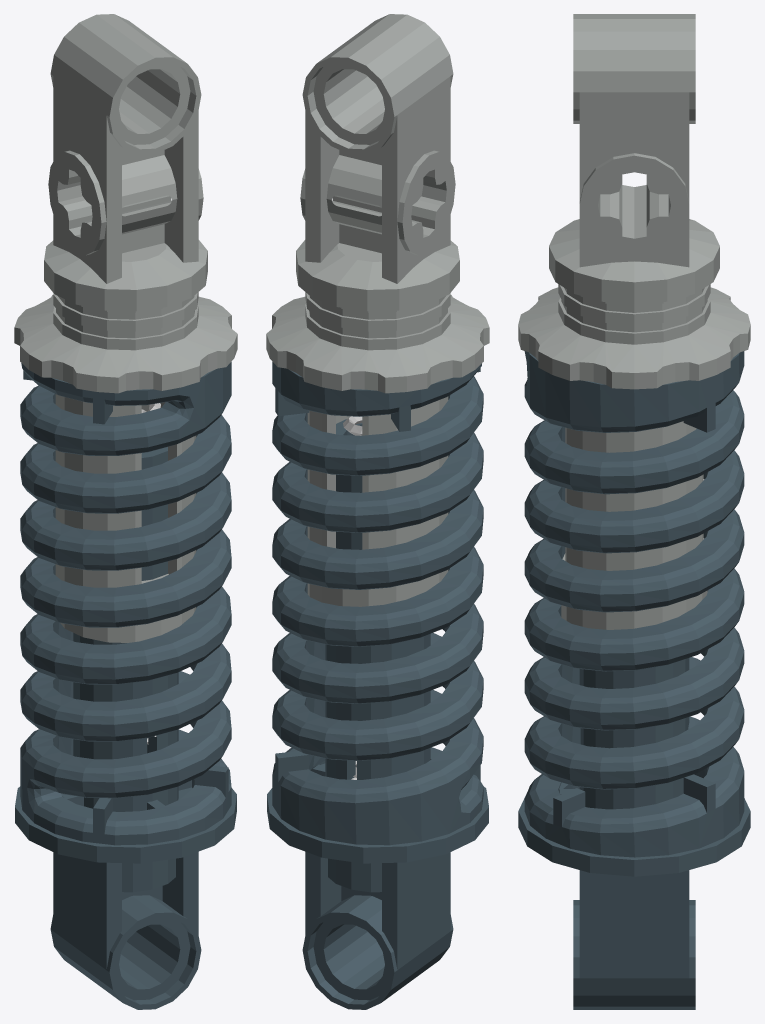
The picture shows the model from 3 angles, left to right: view 1: azimuth 30°, elevation 25°; view 2: azimuth 150°, elevation 25°; view 3: azimuth 270°, elevation 25°; orthographic projection. The views are drawn at different scales.
Visible parts, largest first — view 1: world; view 2: world; view 3: world.
Boxes of the visible parts, x1,y1,x2,y2 form: world: (14, 14, 237, 1009); world: (266, 14, 489, 1009); world: (518, 14, 750, 1009).
Bounding box in the file's own units: 0.0152 × 0.0712 × 0.0152.
